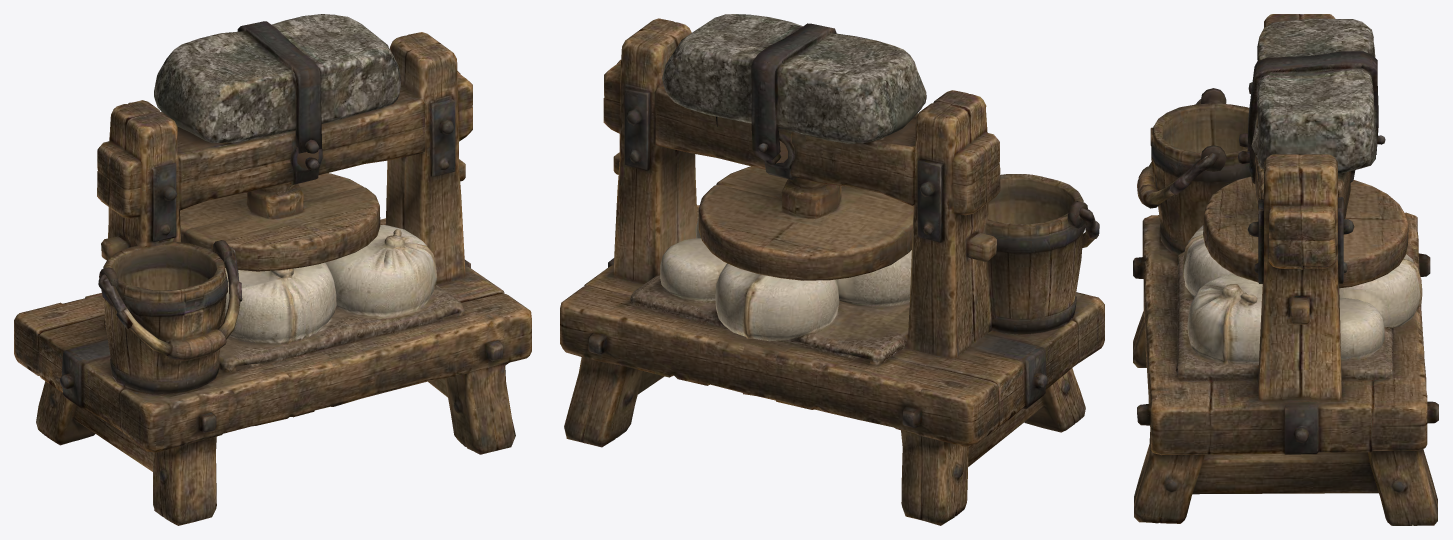
The model's file is kit_sr_cheese_press.glb.
The picture shows the model from 3 angles, left to right: view 1: azimuth 30°, elevation 25°; view 2: azimuth 150°, elevation 25°; view 3: azimuth 270°, elevation 25°; orthographic projection. The views are drawn at different scales.
Parts seen in each view (by area): view 1: kit_sr_cheese_press; view 2: kit_sr_cheese_press; view 3: kit_sr_cheese_press.
Part boxes in pixels (x1,y1,x2,y2): kit_sr_cheese_press: [14, 14, 531, 525]; kit_sr_cheese_press: [560, 14, 1104, 525]; kit_sr_cheese_press: [1133, 14, 1438, 525].
Bounding box in the file's own units: 1.2 × 1.05 × 0.7399.
Materials: 1 (1 with a texture image).
